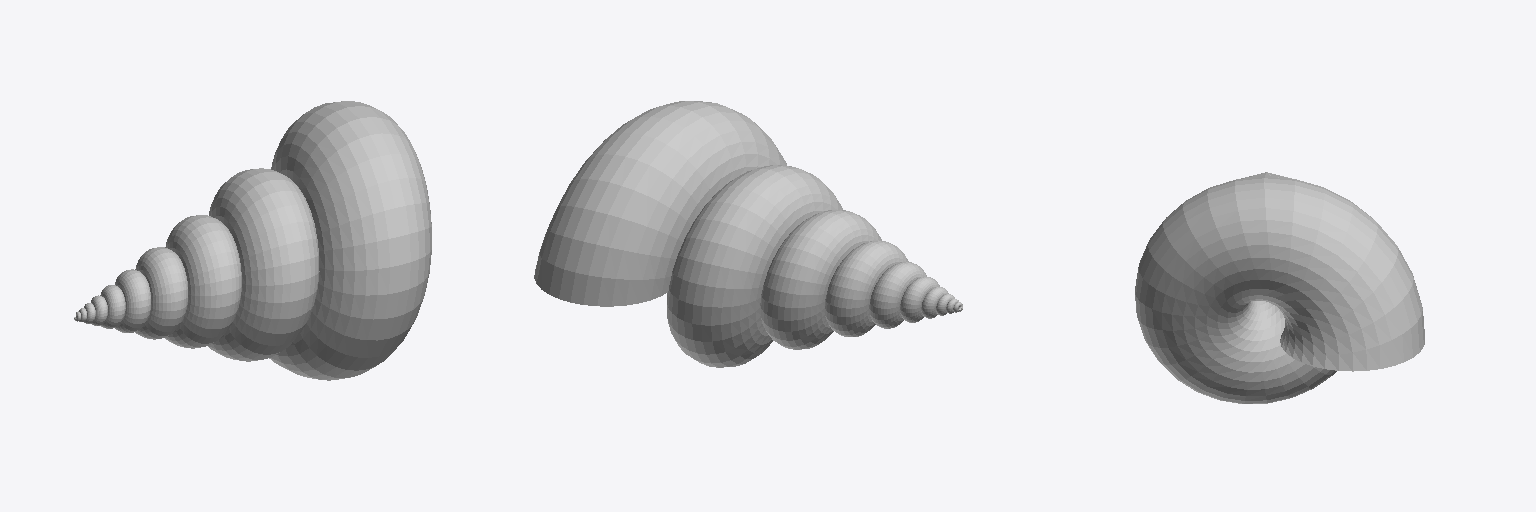
File: Muszla .obj
3 views of the same model, side by side, from view 1: azimuth 30°, elevation 25°; view 2: azimuth 150°, elevation 25°; view 3: azimuth 270°, elevation 25° (orthographic).
Visible parts, largest first — view 1: Circle; view 2: Circle; view 3: Circle.
Part boxes in pixels (bbox=[...]): Circle: bbox=[74, 101, 431, 380]; Circle: bbox=[534, 101, 962, 367]; Circle: bbox=[1135, 172, 1424, 403].
Bounding box in the file's own units: 5.97 × 3.64 × 4.